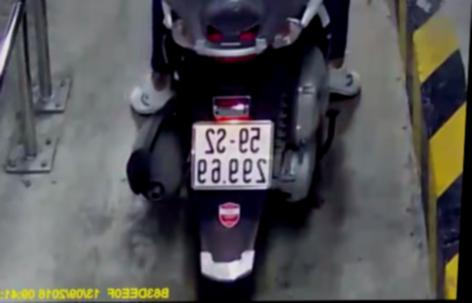License_Plate: (184, 117, 282, 196)
